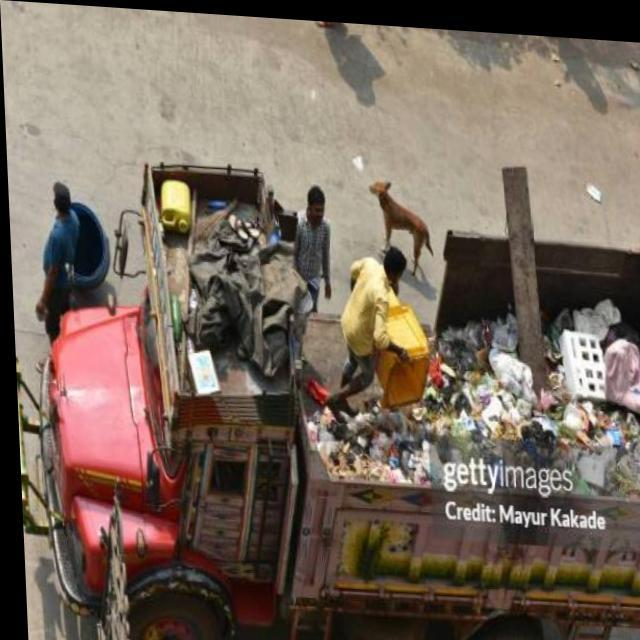uncovered: (132, 136, 640, 588)
